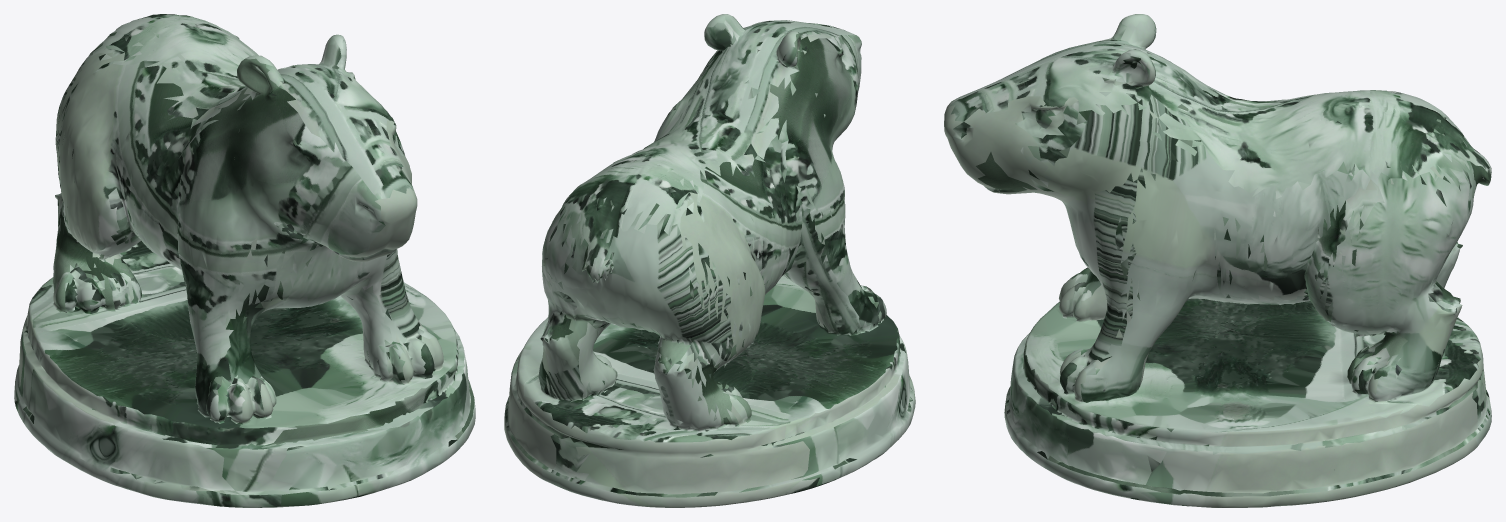
File: basic_t.fbx
The picture shows the model from 3 angles, left to right: view 1: azimuth 30°, elevation 25°; view 2: azimuth 150°, elevation 25°; view 3: azimuth 270°, elevation 25°; orthographic projection. The views are drawn at different scales.
Visible parts, largest first — view 1: Mesh_0; view 2: Mesh_0; view 3: Mesh_0.
Part boxes in pixels (bbox=[...]): Mesh_0: bbox=[14, 14, 475, 507]; Mesh_0: bbox=[504, 14, 915, 507]; Mesh_0: bbox=[944, 14, 1491, 507].
Bounding box in the file's own units: 157 × 156 × 200.
